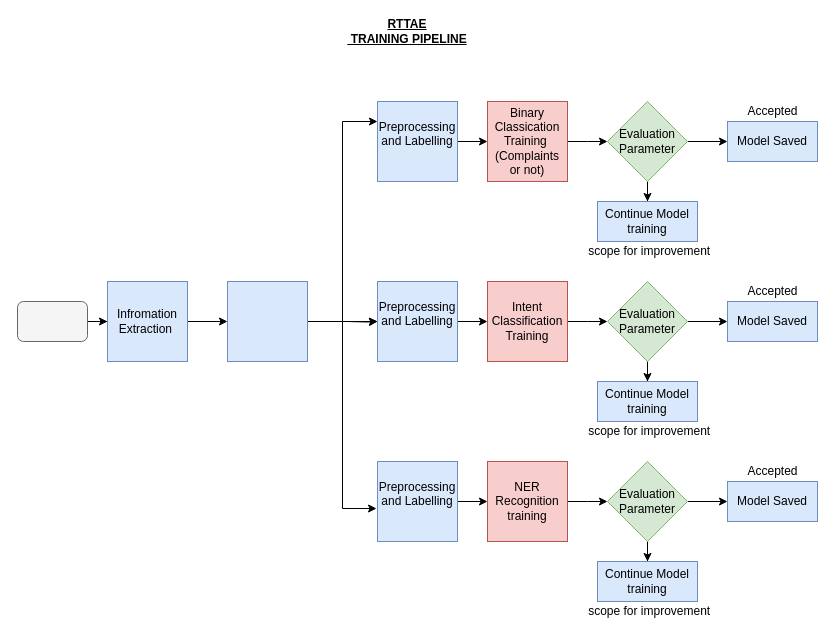
The diagram is 835 pixels wide and 639 high, and some of its shapes have lost their labels. Each missing label, with the centre of its shape:
Speech to Text Conversion: pixel 267 321
START: pixel 52 321
